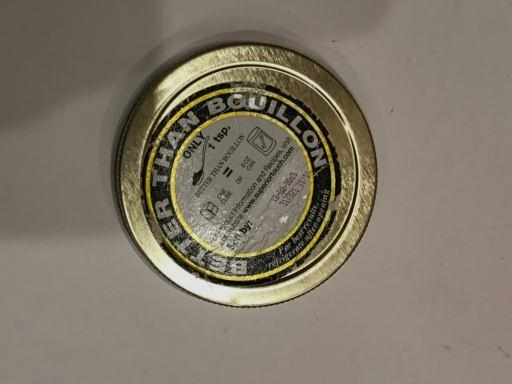metal: (112, 34, 381, 311)
